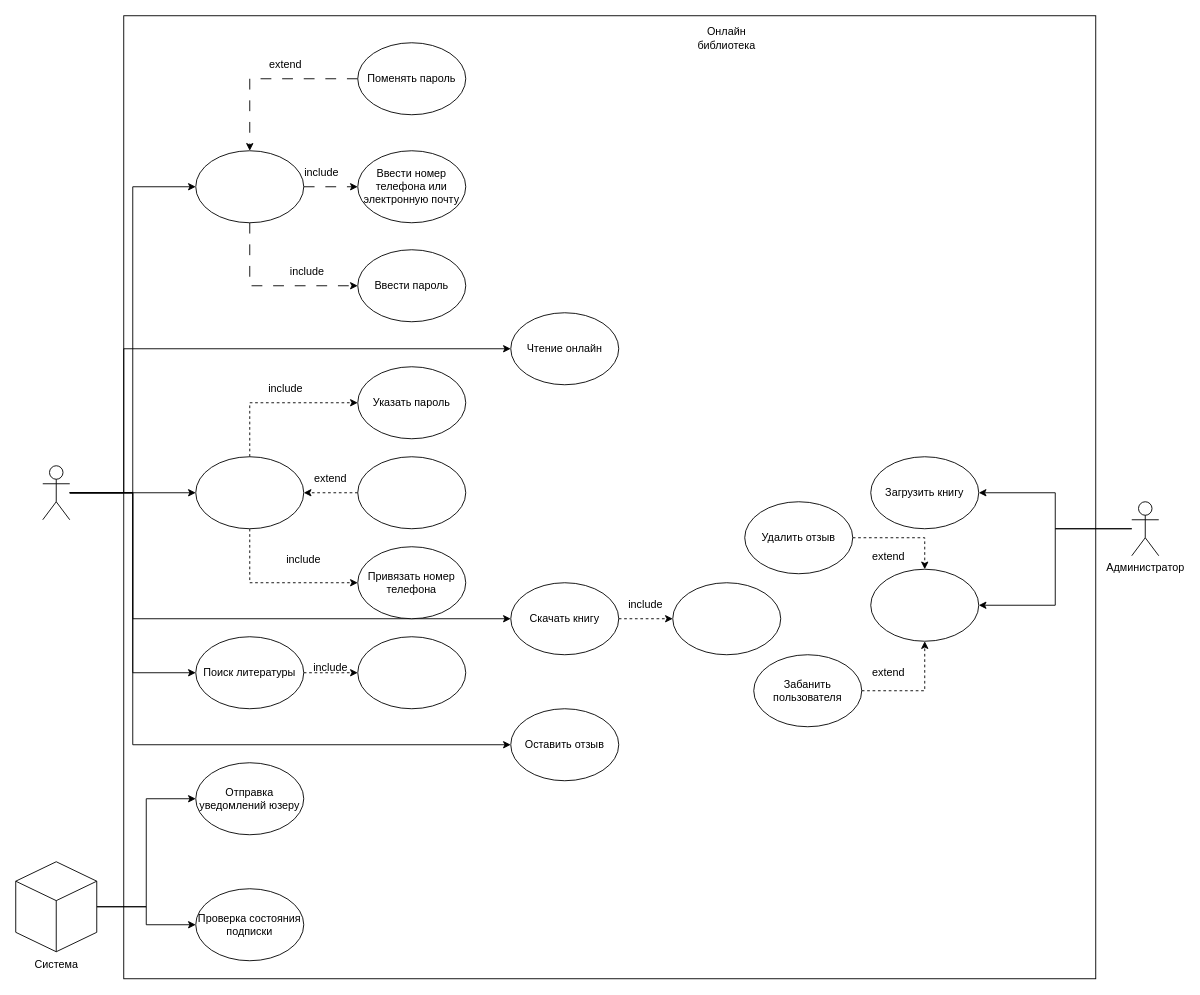
This 1200x995 diagram has some shape labels left out. The box of each missing label's shape, as (x1, y1, x2, y2) in pixels:
Войти в систему: (195, 150, 304, 223)
Выбрать формат: (672, 582, 781, 655)
Модерация: (870, 568, 979, 641)
Пользователь: (42, 465, 70, 520)
Привязать электронную почту: (357, 456, 466, 529)
Регистрация: (195, 456, 304, 529)
Указать автора либо название книги: (357, 636, 466, 709)
